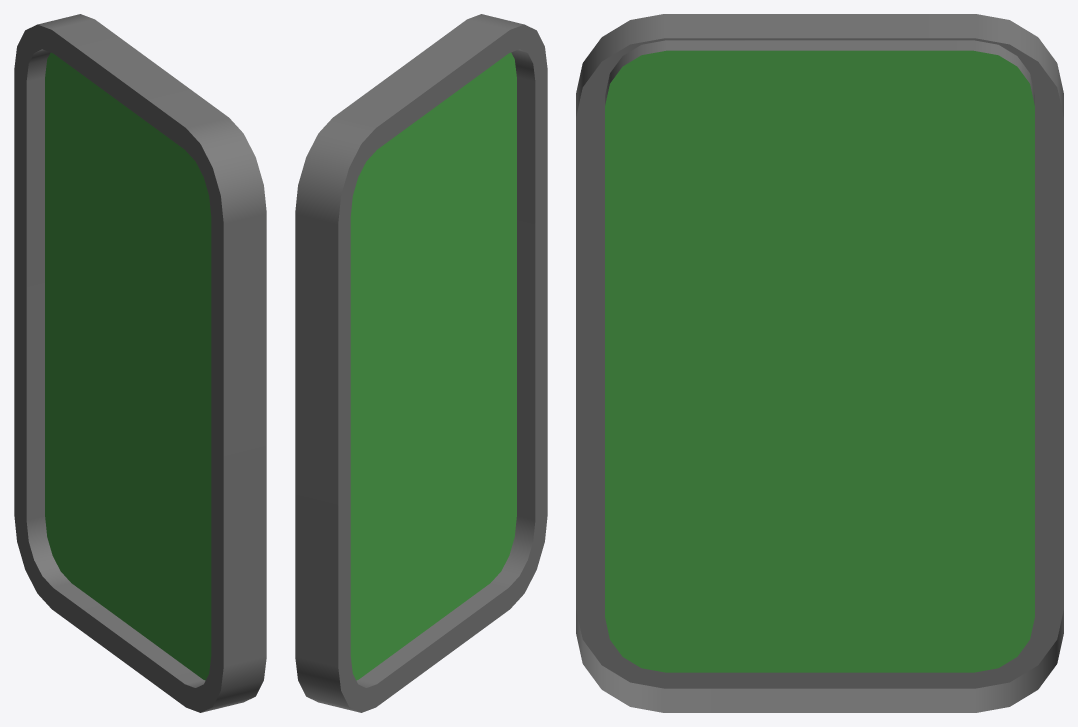
File: painting_02.fbx
3 views of the same model, side by side, from view 1: azimuth 30°, elevation 25°; view 2: azimuth 150°, elevation 25°; view 3: azimuth 270°, elevation 25° (orthographic). The views are drawn at different scales.
Visible parts, largest first — view 1: painting_02; view 2: painting_02; view 3: painting_02.
Boxes of the visible parts, left/top/right/bottom form: painting_02: left=14, top=14, right=266, bottom=712; painting_02: left=295, top=14, right=547, bottom=712; painting_02: left=576, top=14, right=1063, bottom=712.
Bounding box in the file's own units: 7 × 90 × 59.
